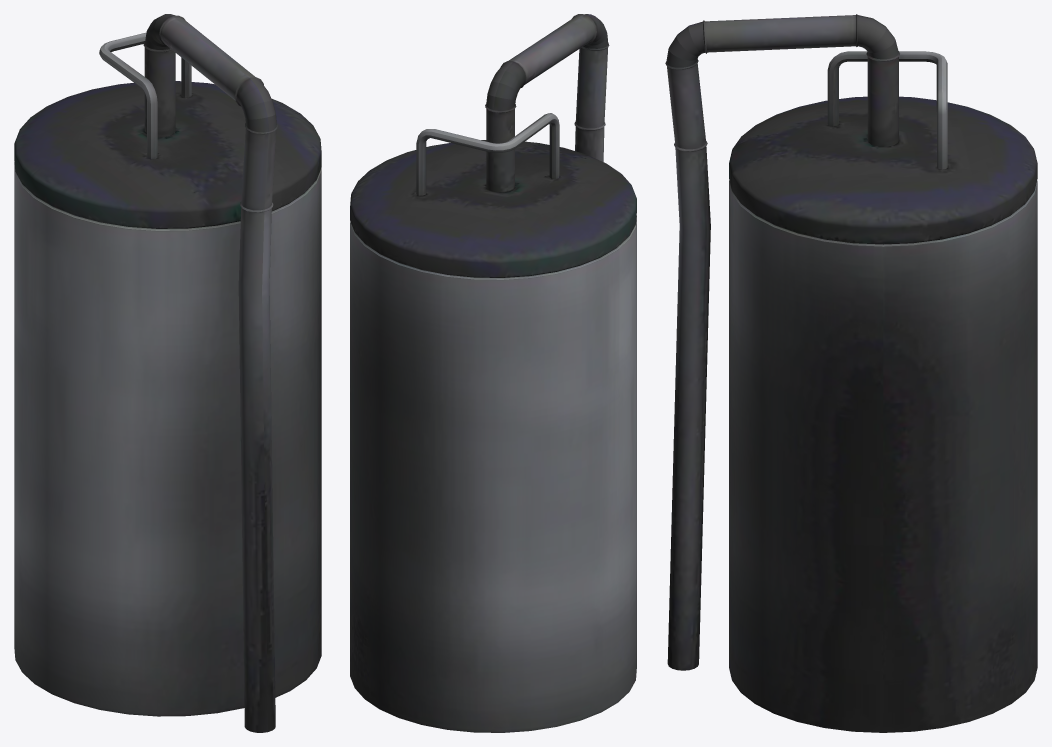
3 views of the same model, side by side, from view 1: azimuth 30°, elevation 25°; view 2: azimuth 150°, elevation 25°; view 3: azimuth 270°, elevation 25° (orthographic). The views are drawn at different scales.
Parts seen in each view (by area): view 1: body0_model0_lod0_mesh0; view 2: body0_model0_lod0_mesh0; view 3: body0_model0_lod0_mesh0.
Boxes of the visible parts, x1,y1,x2,y2 form: body0_model0_lod0_mesh0: (14, 14, 321, 732); body0_model0_lod0_mesh0: (350, 14, 636, 732); body0_model0_lod0_mesh0: (665, 14, 1037, 732).
Size of the model in its own units: 179 by 414 by 216.
1 material, 1 textured.
